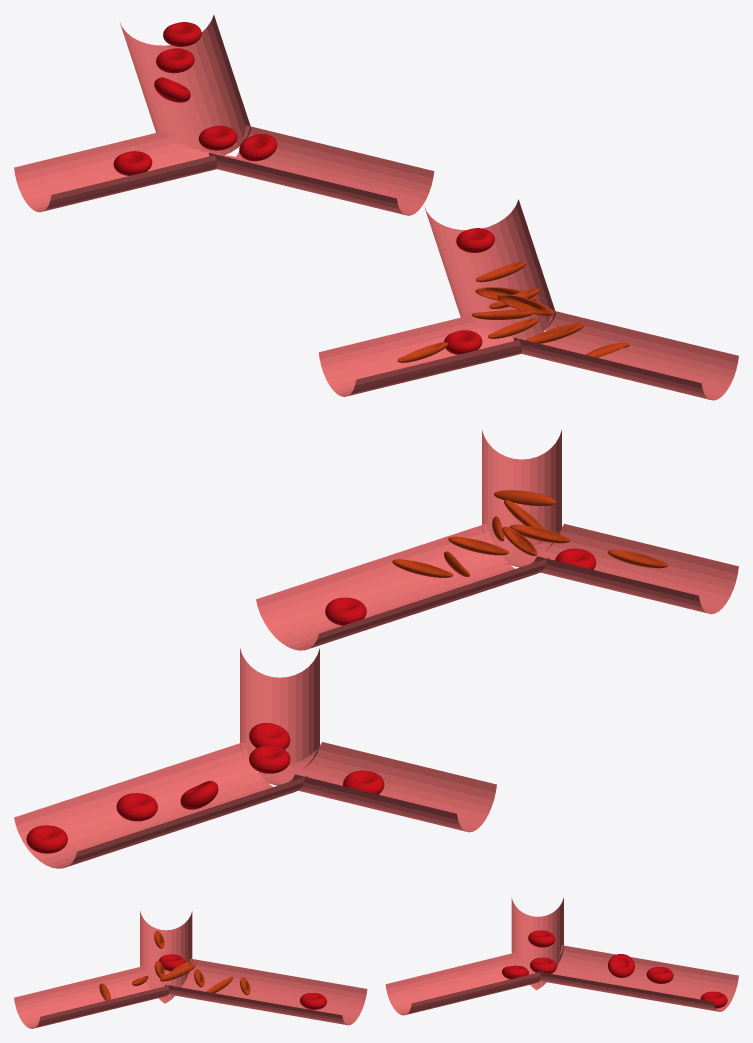
The model's file is sickelcell.gltf.
3 views of the same model, one above another, from view 1: azimuth 30°, elevation 25°; view 2: azimuth 150°, elevation 25°; view 3: azimuth 270°, elevation 25° (orthographic). The views are drawn at different scales.
Visible parts, largest first — view 1: Cylinder.009, Cylinder.003, Cylinder.004, Cylinder.002, Cylinder.008, Cylinder.010, Sphere.002, Sphere.003, Sphere.004, Sphere.007, Sphere, Sphere.006 (+3 smaller); view 2: Cylinder.010, Cylinder.004, Cylinder.002, Cylinder.008, Cylinder.003, Cylinder.009, Sphere.004, Sphere, Sphere.003, Sphere.007, Sphere.002, Sphere.005 (+1 smaller); view 3: Cylinder.010, Cylinder.004, Cylinder.009, Cylinder.003, Cylinder.002, Cylinder.008, Sphere.005, Sphere.006, Sphere.007, Sphere.004, Sphere.003, Sphere.008 (+3 smaller).
Boxes of the visible parts, <box> form: Cylinder.009: <box>513,310,738,400</box>; Cylinder.003: <box>209,125,434,215</box>; Cylinder.004: <box>120,15,251,155</box>; Cylinder.002: <box>14,131,235,212</box>; Cylinder.008: <box>318,315,525,396</box>; Cylinder.010: <box>424,199,555,340</box>; Sphere.002: <box>239,134,277,161</box>; Sphere.003: <box>198,125,237,150</box>; Sphere.004: <box>156,48,194,73</box>; Sphere.007: <box>456,228,494,252</box>; Sphere: <box>163,22,201,46</box>; Sphere.006: <box>113,151,152,175</box>; Cylinder.010: <box>256,523,549,650</box>; Cylinder.004: <box>14,741,307,868</box>; Cylinder.002: <box>258,742,496,832</box>; Cylinder.008: <box>501,524,738,614</box>; Cylinder.003: <box>240,648,319,774</box>; Cylinder.009: <box>482,430,561,556</box>; Sphere.004: <box>116,793,157,821</box>; Sphere: <box>26,825,67,853</box>; Sphere.003: <box>249,745,290,773</box>; Sphere.007: <box>325,597,366,625</box>; Sphere.002: <box>249,723,290,749</box>; Sphere.005: <box>180,780,218,809</box>; Cylinder.010: <box>165,958,367,1025</box>; Cylinder.004: <box>536,945,738,1011</box>; Cylinder.009: <box>14,965,171,1028</box>; Cylinder.003: <box>385,952,543,1015</box>; Cylinder.002: <box>511,897,563,990</box>; Cylinder.008: <box>140,911,192,1003</box>; Sphere.005: <box>608,954,634,977</box>; Sphere.006: <box>528,930,555,947</box>; Sphere.007: <box>300,993,326,1009</box>; Sphere.004: <box>646,967,673,983</box>; Sphere.003: <box>530,957,556,973</box>; Sphere.008: <box>159,954,185,971</box>.
Bounding box in the file's own units: 10.41 × 1.18 × 26.62.
